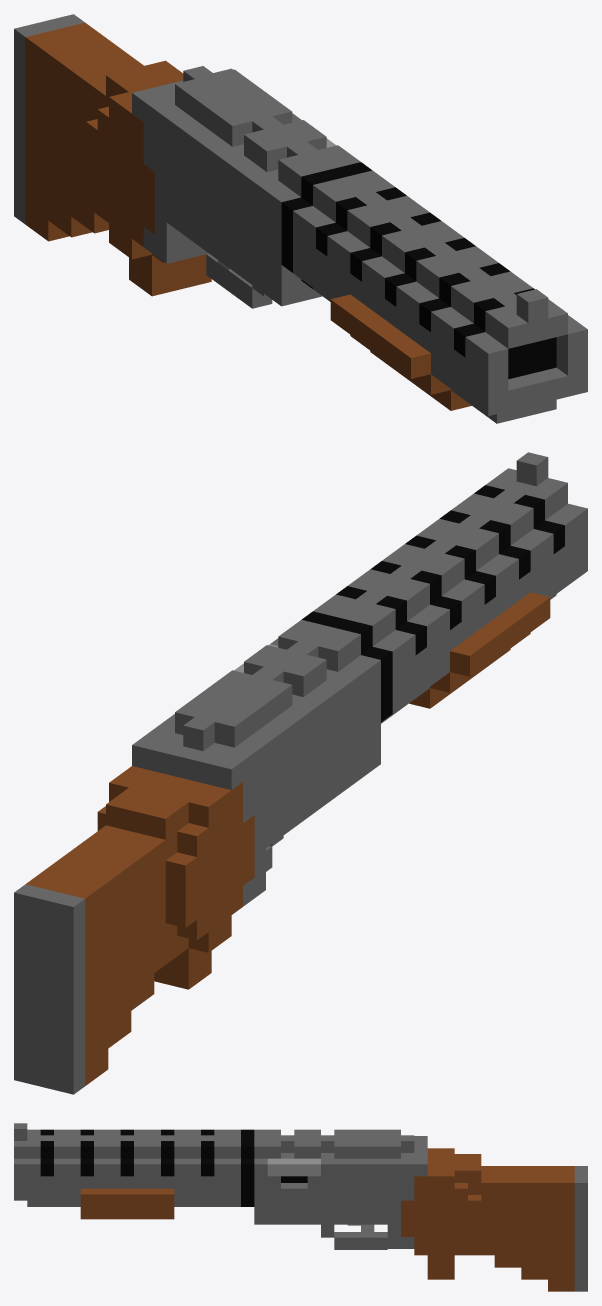
File: Shotgun.obj
The picture shows the model from 3 angles, top to bottom: view 1: azimuth 30°, elevation 25°; view 2: azimuth 150°, elevation 25°; view 3: azimuth 270°, elevation 25°; orthographic projection. The views are drawn at different scales.
Size of the model in its own units: 0.7 by 1.3 by 4.3.
Materials: 1 (1 with a texture image).
